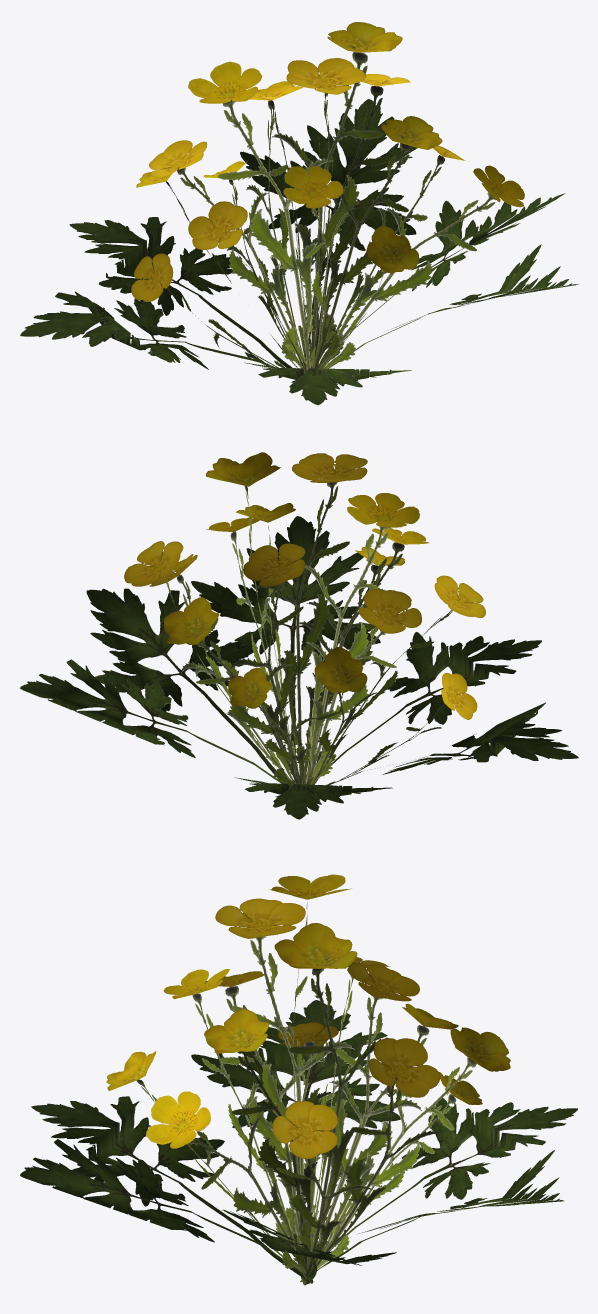
The model's file is ranunculus1_bush.obj.
3 renders of one model, top to bottom at view 1: azimuth 30°, elevation 25°; view 2: azimuth 150°, elevation 25°; view 3: azimuth 270°, elevation 25°, orthographic. The views are drawn at different scales.
Visible parts, largest first — view 1: ranunculus1; view 2: ranunculus1; view 3: ranunculus1.
Part boxes in pixels (bbox=[...]): ranunculus1: bbox=[20, 22, 578, 405]; ranunculus1: bbox=[20, 452, 578, 819]; ranunculus1: bbox=[20, 874, 577, 1285].
Size of the model in its own units: 56.63 by 35.45 by 47.53.
